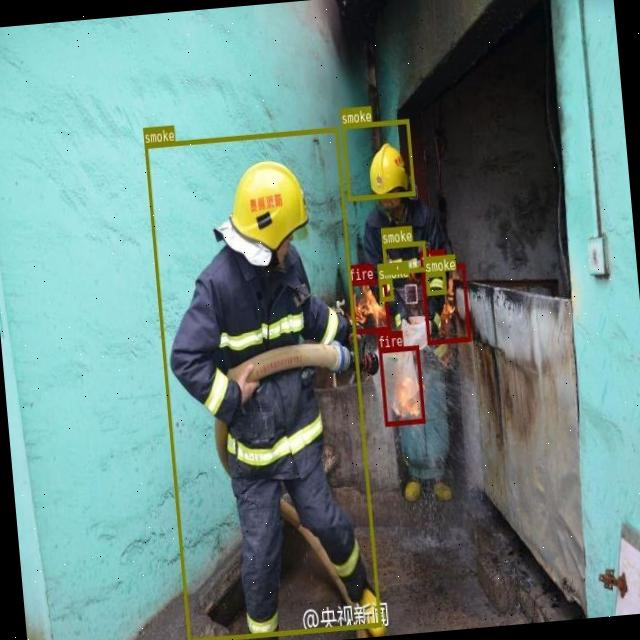fire: (420, 262, 470, 344), (378, 344, 424, 424), (349, 277, 390, 332)
smoke: (144, 127, 381, 640), (341, 118, 414, 200), (382, 240, 427, 274), (424, 270, 446, 295), (378, 278, 392, 300)
